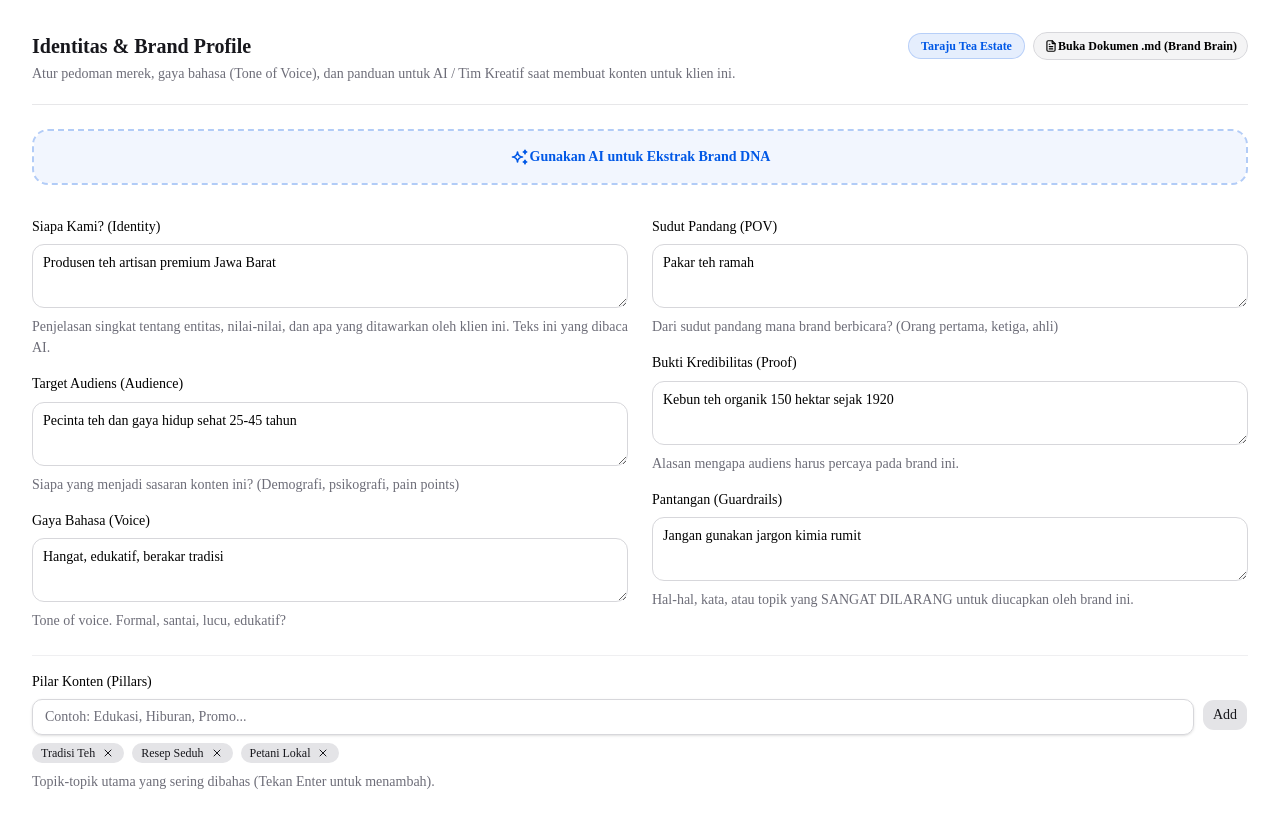
Test case: BrandProfileTab › toggles the AI Brand DNA Extractor panel
Click the button "Gunakan AI untuk Ekstrak Brand DNA" at coordinates (640, 157), box x1=32 y1=129 x2=1248 y2=185
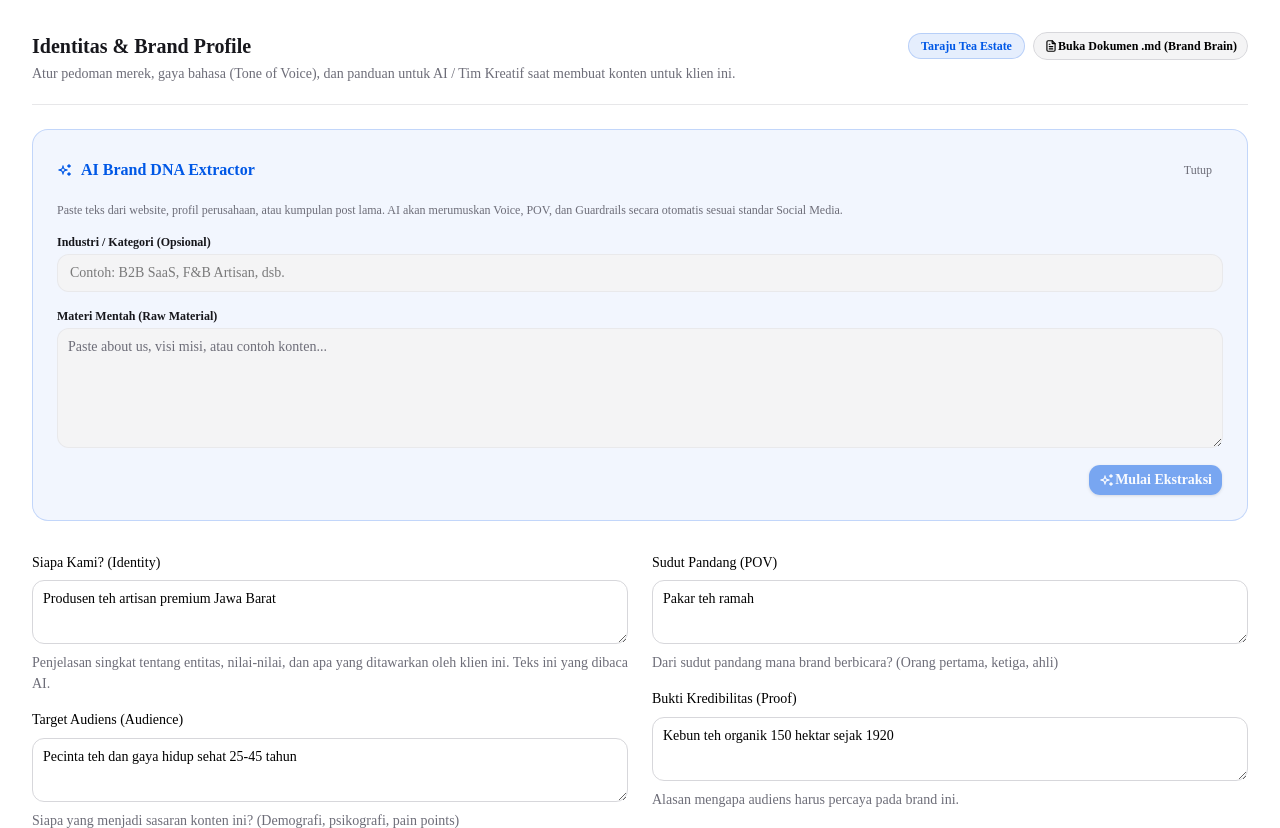
Now the heading "AI Brand DNA Extractor" is shown, box x1=57 y1=158 x2=255 y2=182
Now the field with placeholder "Contoh: B2B SaaS, F&B Artisan, dsb." is shown, box x1=57 y1=254 x2=1223 y2=292
Click the button "Tutup" at coordinates (1198, 170), box x1=1173 y1=154 x2=1223 y2=186
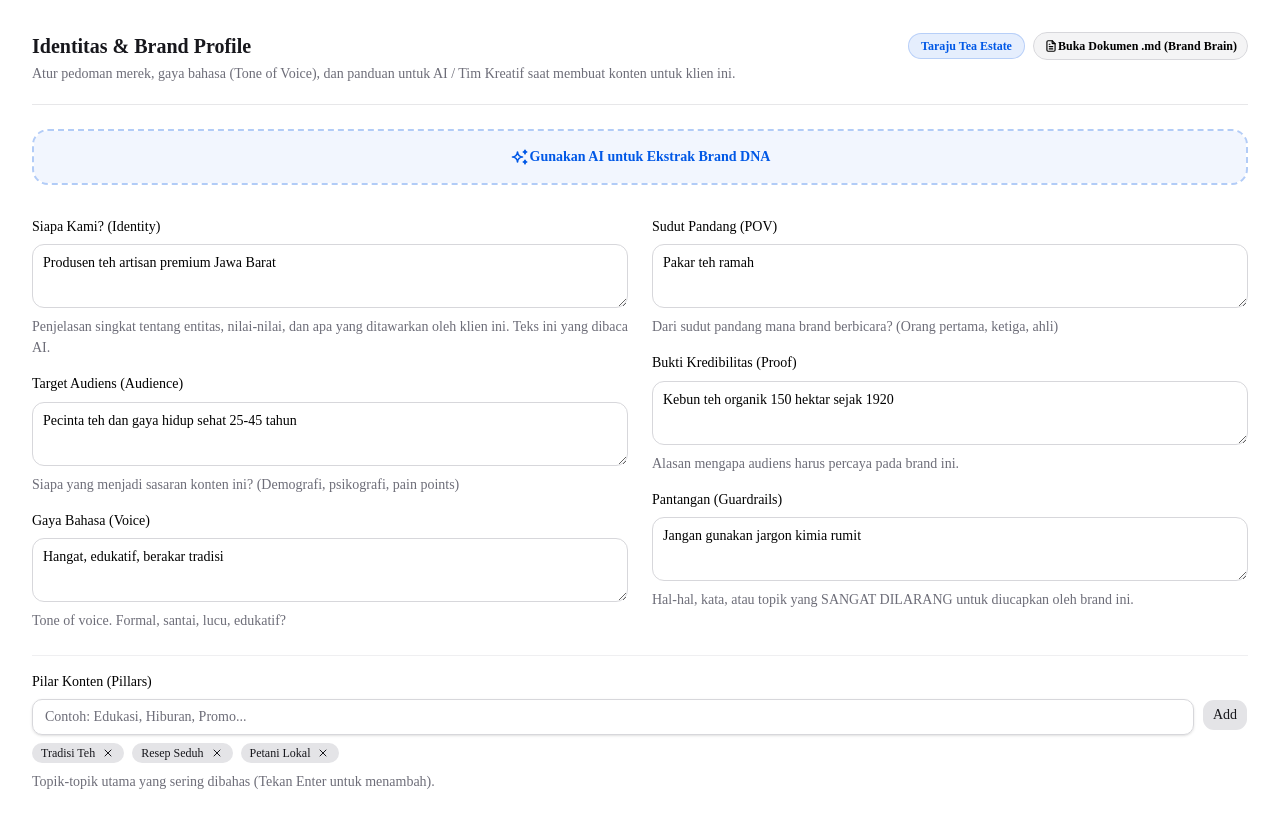
Now the heading "AI Brand DNA Extractor" is gone
